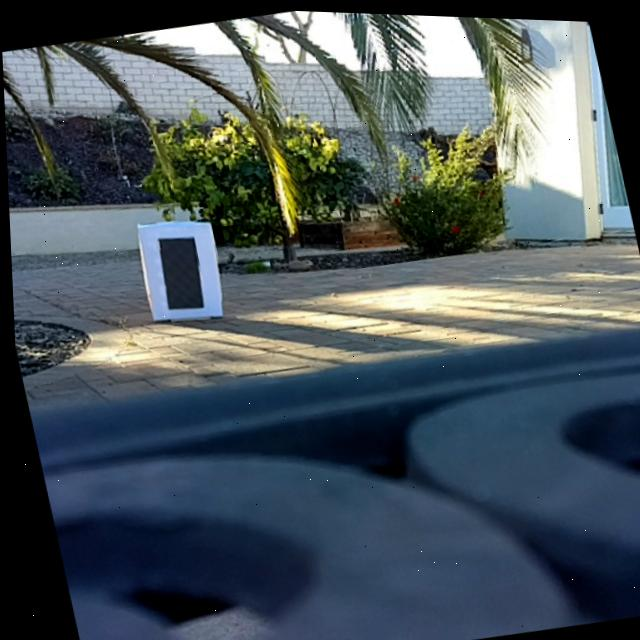led: (150, 229, 207, 312)
